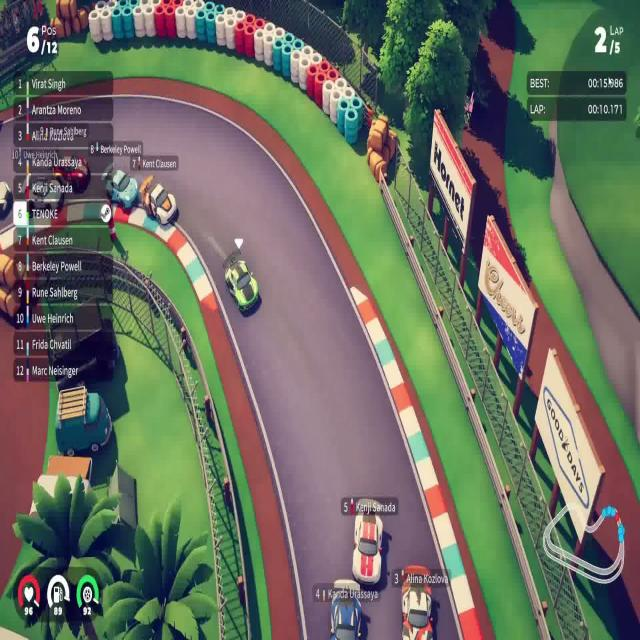car: (351, 492, 384, 586), (399, 563, 436, 639), (223, 254, 259, 314), (139, 174, 178, 220), (104, 167, 138, 211)
